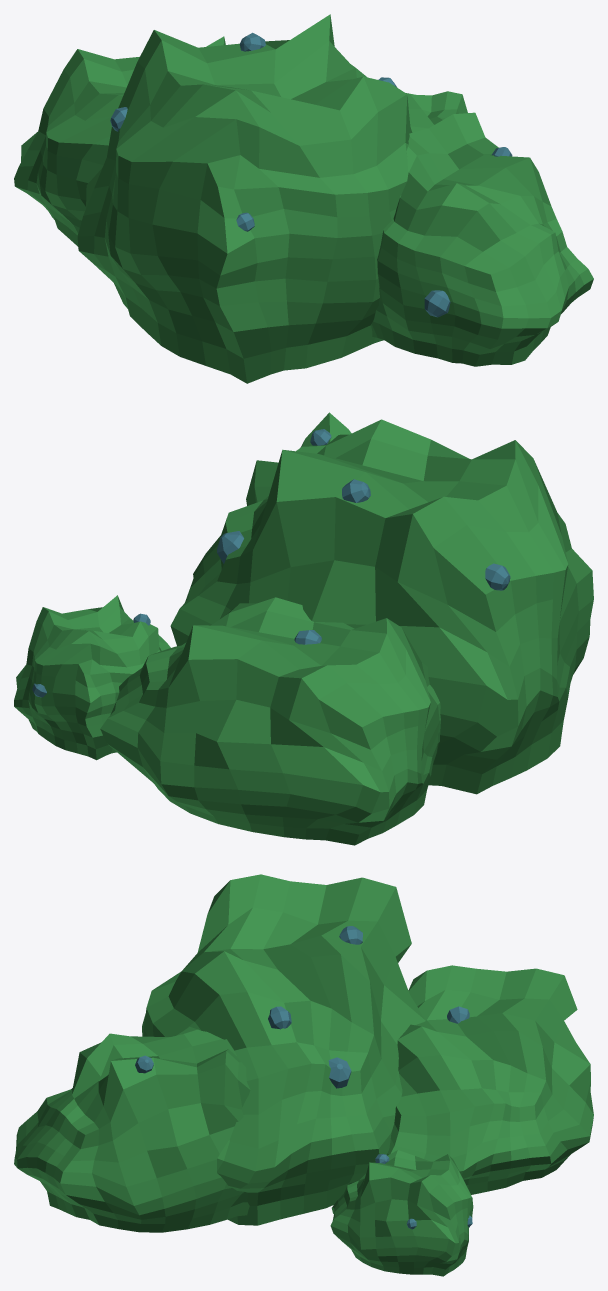
Rendered from BuschSimpleBlau.glb.
3 views of the same model, one above another, from view 1: azimuth 30°, elevation 25°; view 2: azimuth 150°, elevation 25°; view 3: azimuth 270°, elevation 25° (orthographic). The views are drawn at different scales.
Visible parts, largest first — view 1: BuschSimpleBlau-col; view 2: BuschSimpleBlau-col; view 3: BuschSimpleBlau-col.
Part boxes in pixels (x1,y1,x2,y2): BuschSimpleBlau-col: [14, 14, 593, 383]; BuschSimpleBlau-col: [14, 412, 593, 845]; BuschSimpleBlau-col: [14, 874, 593, 1276].
Size of the model in its own units: 10.94 by 6.92 by 13.81.
Materials: 1 (1 with a texture image).
